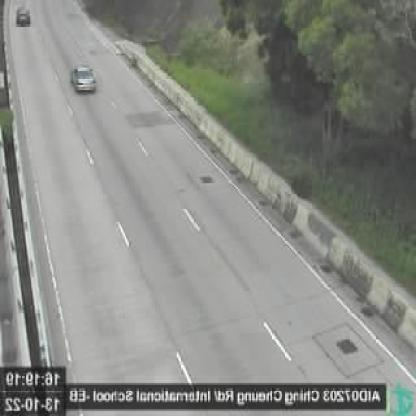Car: (72, 62, 96, 93), (16, 6, 30, 26)
